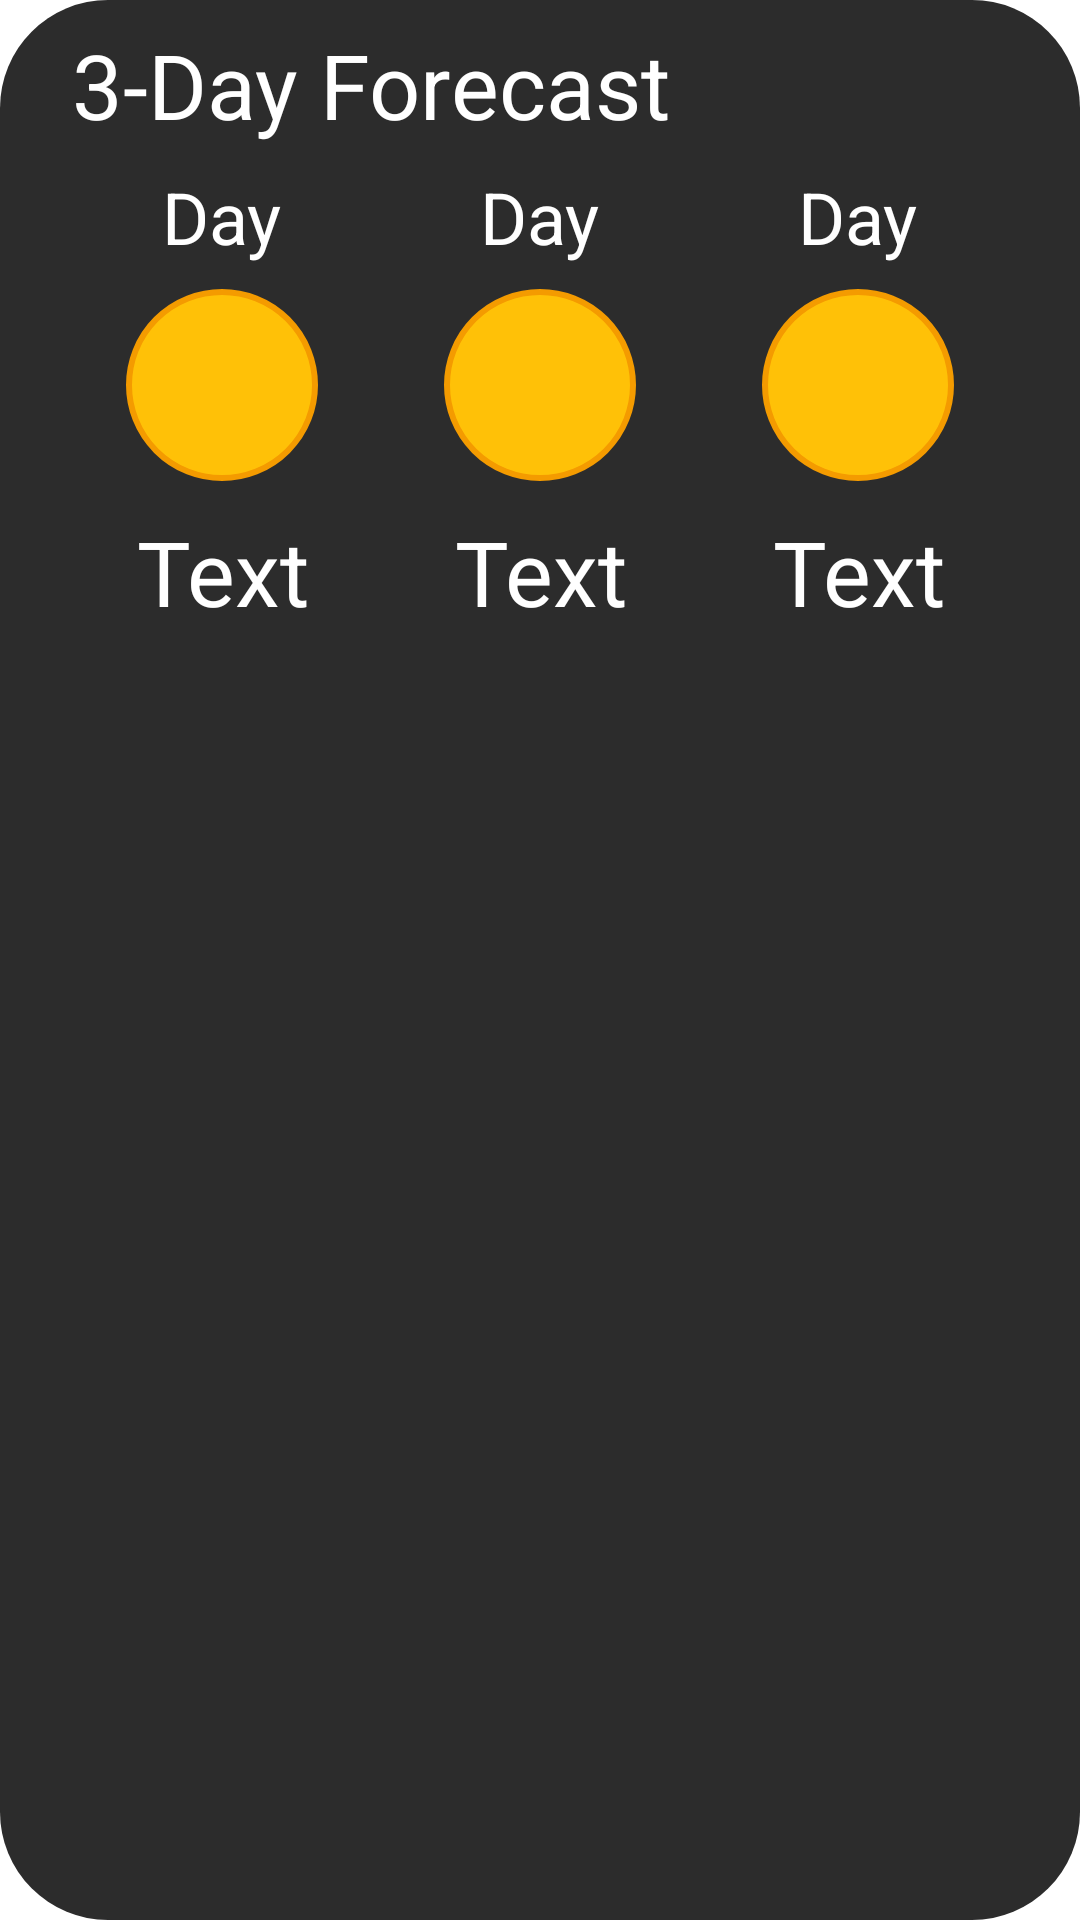

Point at icon controls on the screen. Image size 1080w x 1920h, points as (x,y).
sun norays: (222,385), (540,385), (858,385)
